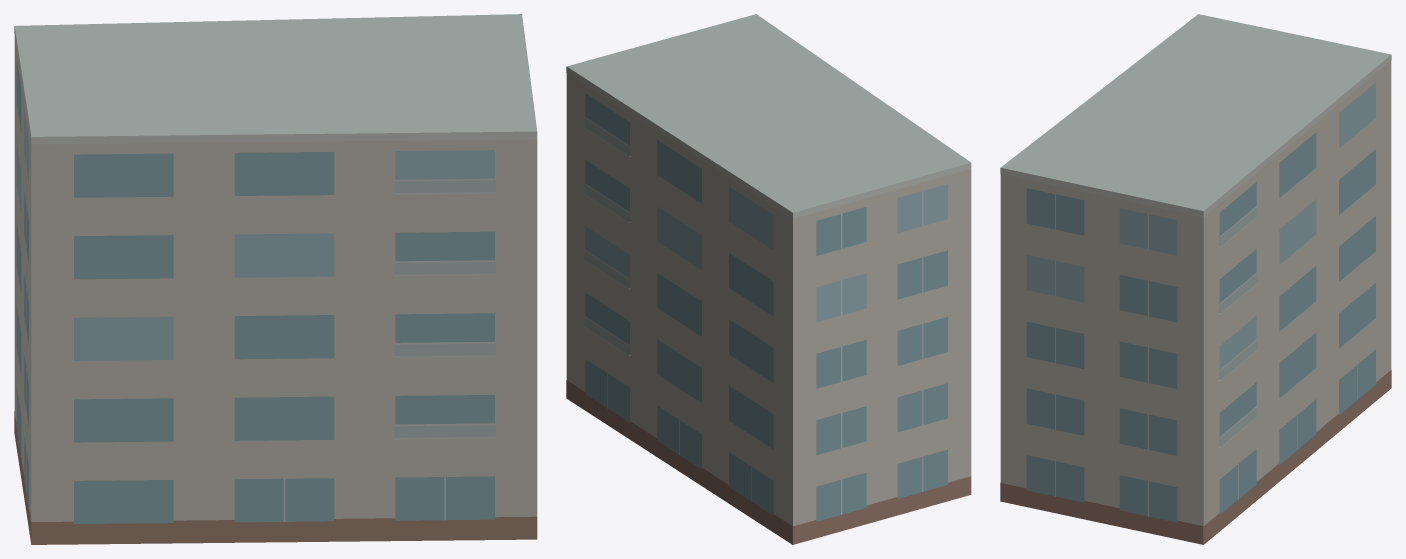
Rendered from survey-upis-33046724.glb.
3 renders of one model, left to right at view 1: azimuth 30°, elevation 25°; view 2: azimuth 150°, elevation 25°; view 3: azimuth 270°, elevation 25°, orthographic. The views are drawn at different scales.
Visible parts, largest first — view 1: survey-upis-33046724.tmp; view 2: survey-upis-33046724.tmp; view 3: survey-upis-33046724.tmp.
Part boxes in pixels (x1,y1,x2,y2): survey-upis-33046724.tmp: (14,14,537,544); survey-upis-33046724.tmp: (566,14,971,544); survey-upis-33046724.tmp: (1000,14,1391,544).
Bounding box in the file's own units: 16.73 × 13.2 × 14.03.
